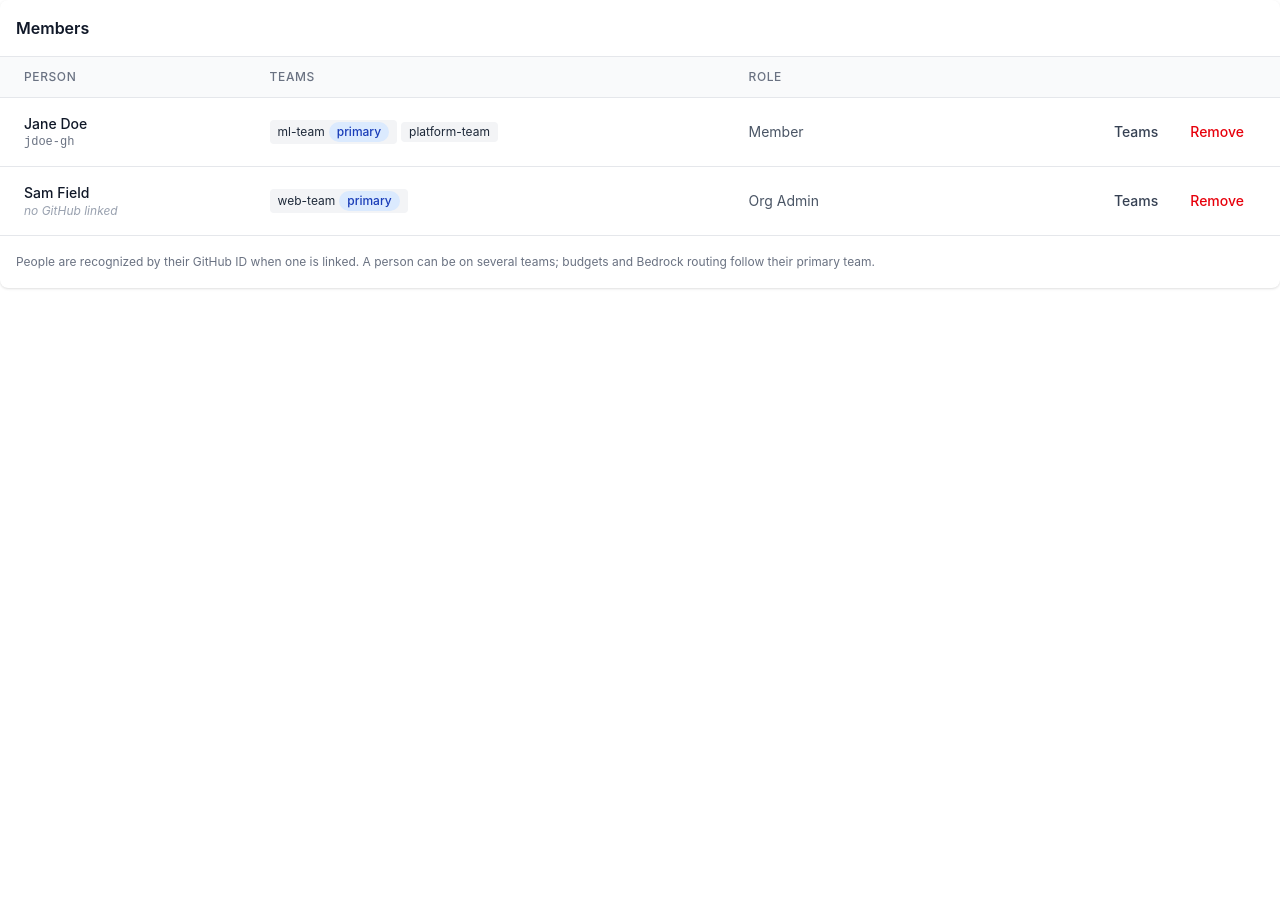
MemberList › remove member › requires a confirmation that states the real consequence before firing
The width and height of the screenshot is (1280, 900).
Click the button "Remove" in the row of "Jane Doe": (1217, 132) [1178, 116, 1256, 148]
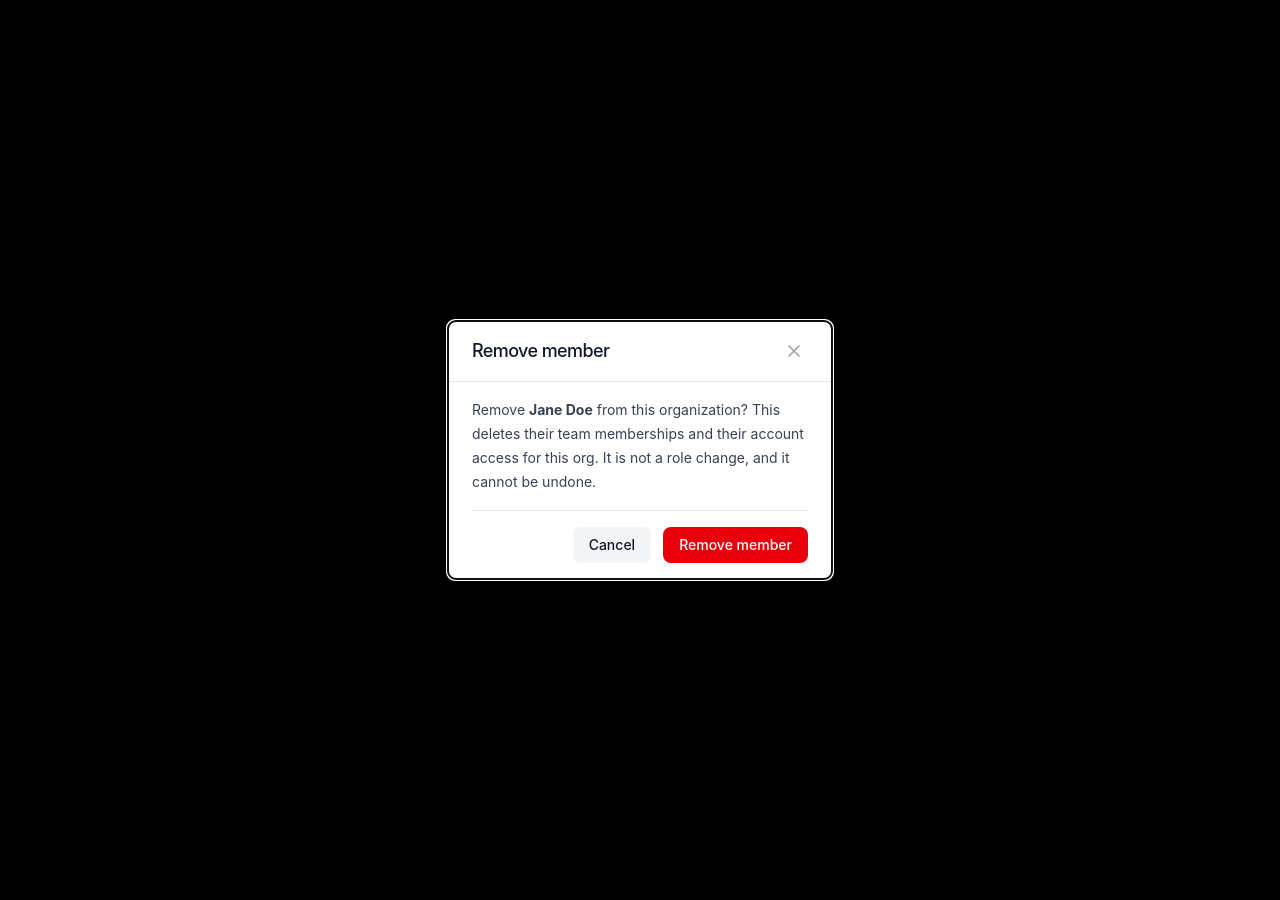
Expected: the dialog shows "from this organization", [472, 401, 804, 490]
Expected: the dialog shows "not a role change", [472, 401, 804, 490]
Expected: the dialog shows "cannot be undone", [472, 401, 804, 490]
Click the button "Remove member": (736, 545) [663, 527, 808, 563]
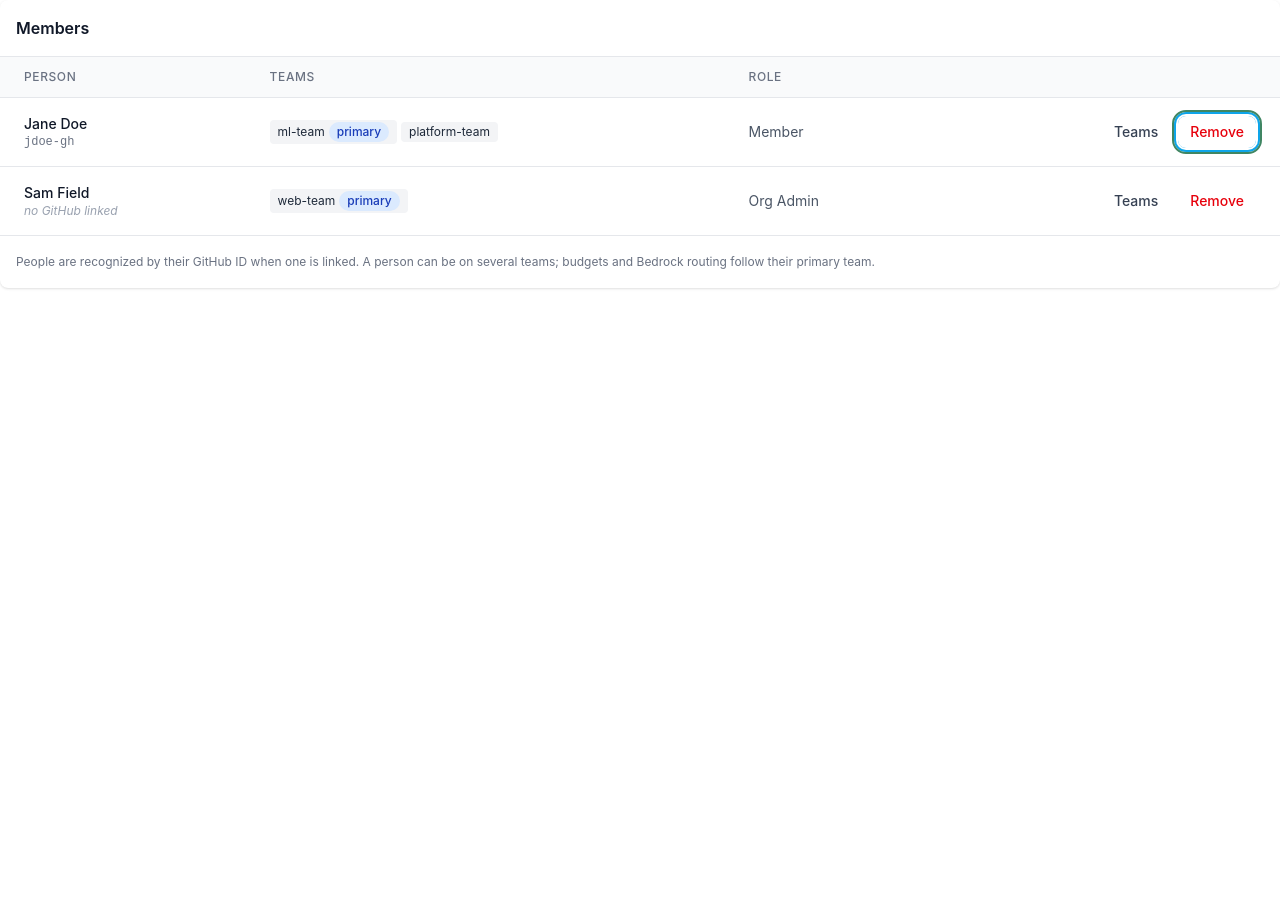
Expected: the dialog is gone
